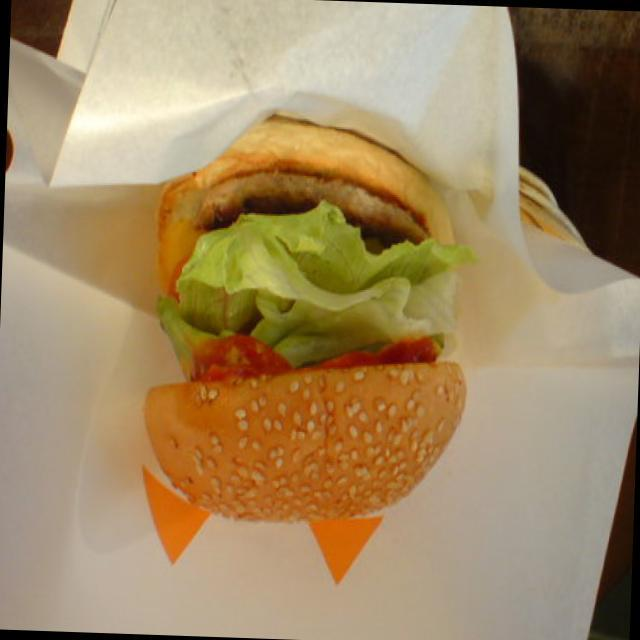Hamburger: (122, 108, 492, 543)
